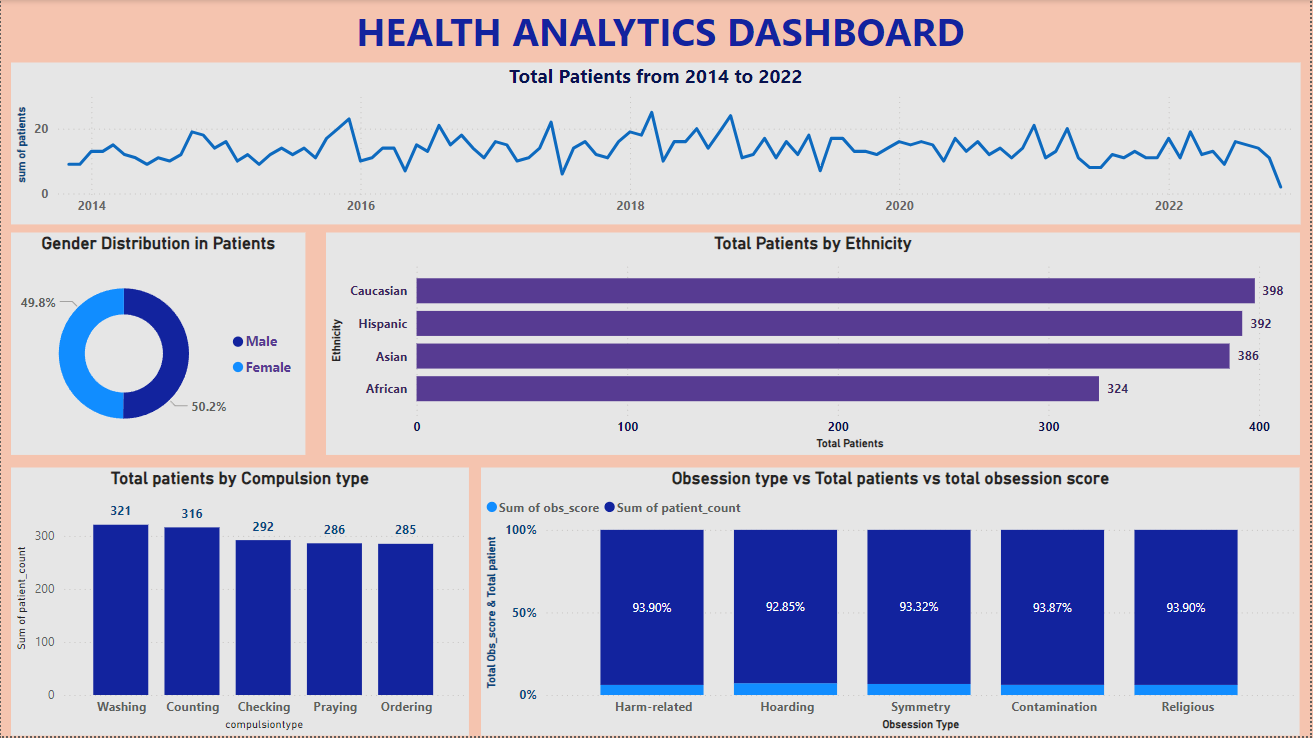

The page's visual inventory and layout, read from the dashboard file:
{"tool":"powerbi","page":{"name":"Page 1","canvas":[1280,720],"ordinal":0},"visuals":[{"type":"textbox","box":[9.6,0,1270.7,60.4],"z":0},{"type":"lineChart","title":"Total Patients from 2014 to 2022","fields":{"Y":["Sum(Diagnosis.patient_count)"],"Category":["Diagnosis.month.Variation.Date Hierarchy.Year","Diagnosis.month.Variation.Date Hierarchy.Quarter","Diagnosis.month.Variation.Date Hierarchy.Month","Diagnosis.month.Variation.Date Hierarchy.Day"]},"box":[9.5,60.9,1261.3,158.3],"z":1000},{"type":"donutChart","title":"Gender Distribution in Patients","fields":{"Category":["Gender.gender"],"Y":["Sum(Gender.patient_count)"]},"box":[9.5,227.4,288.3,217.9],"z":2000},{"type":"clusteredBarChart","title":"Total Patients by Ethnicity","fields":{"Category":["Ethnicity.ethnicity"],"Y":["Sum(Ethnicity.patient_count)"]},"box":[318,227.4,952.8,217.9],"z":3000},{"type":"clusteredColumnChart","title":"Total patients by Compulsion type","fields":{"Category":["Compound_type.compulsiontype"],"Y":["Sum(Compound_type.patient_count)"]},"box":[9.5,457.4,448,262.6],"z":4000},{"type":"hundredPercentStackedColumnChart","title":"Obsession type vs Total patients vs total obsession score","fields":{"Category":["obsession_type.obsessiontype"],"Y":["Sum(obsession_type.obs_score)","Sum(obsession_type.patient_count)"]},"box":[469.6,457.4,801.2,262.6],"z":5000}]}

Visuals, with their boxes in screenshot pixels (x1, y1, x2, y2), scaled from the page's 1280x720 canvas onto the 1313x738 screenshot:
textbox: <bbox>10, 0, 1312, 62</bbox>
"Total Patients from 2014 to 2022" lineChart: <bbox>10, 62, 1304, 225</bbox>
"Gender Distribution in Patients" donutChart: <bbox>10, 233, 305, 456</bbox>
"Total Patients by Ethnicity" clusteredBarChart: <bbox>326, 233, 1304, 456</bbox>
"Total patients by Compulsion type" clusteredColumnChart: <bbox>10, 469, 469, 737</bbox>
"Obsession type vs Total patients vs total obsession score" hundredPercentStackedColumnChart: <bbox>482, 469, 1304, 737</bbox>
